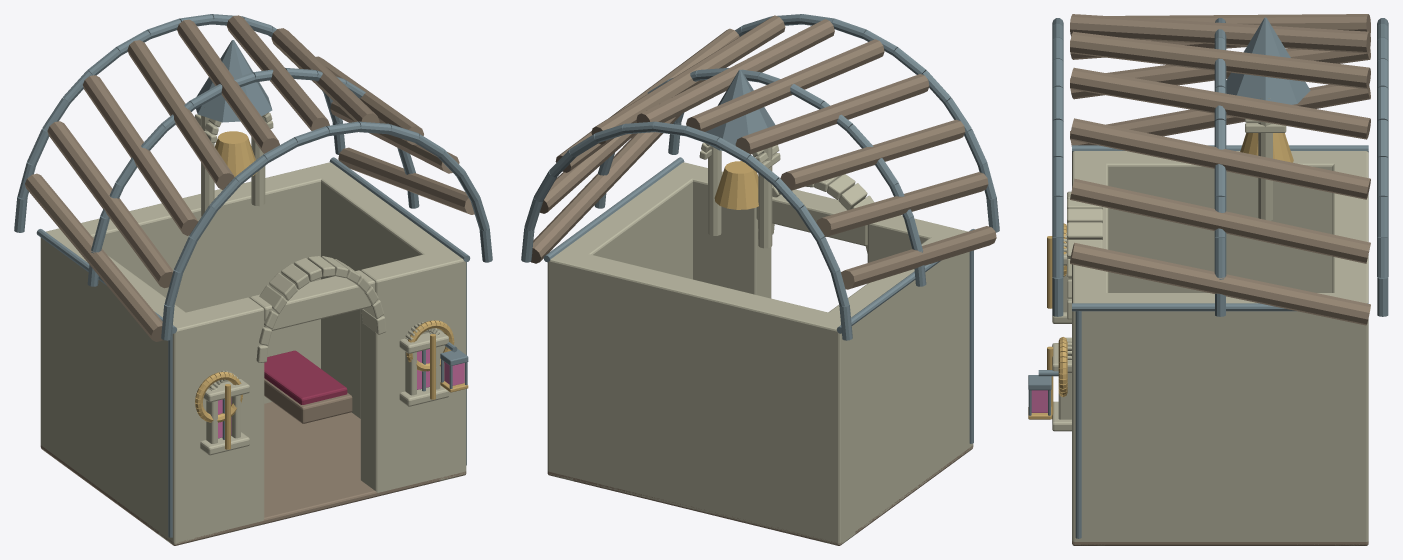
The model's file is a4_service_1.glb.
The picture shows the model from 3 angles, left to right: view 1: azimuth 30°, elevation 25°; view 2: azimuth 150°, elevation 25°; view 3: azimuth 270°, elevation 25°; orthographic projection. The views are drawn at different scales.
Parts seen in each view (by area): view 1: Side.013, Roof.013, Front.013, Body.031; view 2: Body.031, Roof.013, Side.013, Front.013; view 3: Side.013, Roof.013, Body.031, Front.013.
Part boxes in pixels (x1=…): Side.013: x1=41, y1=162, x2=466, y2=544; Roof.013: x1=14, y1=14, x2=492, y2=341; Front.013: x1=158, y1=248, x2=468, y2=545; Body.031: x1=40, y1=162, x2=466, y2=545; Body.031: x1=547, y1=248, x2=973, y2=545; Roof.013: x1=521, y1=14, x2=999, y2=340; Side.013: x1=548, y1=162, x2=973, y2=545; Front.013: x1=671, y1=162, x2=971, y2=458; Side.013: x1=1072, y1=151, x2=1368, y2=544; Roof.013: x1=1052, y1=14, x2=1388, y2=325; Body.031: x1=1072, y1=151, x2=1368, y2=545; Front.013: x1=1028, y1=151, x2=1108, y2=545.
Size of the model in its own units: 3.35 by 3.85 by 2.79.
